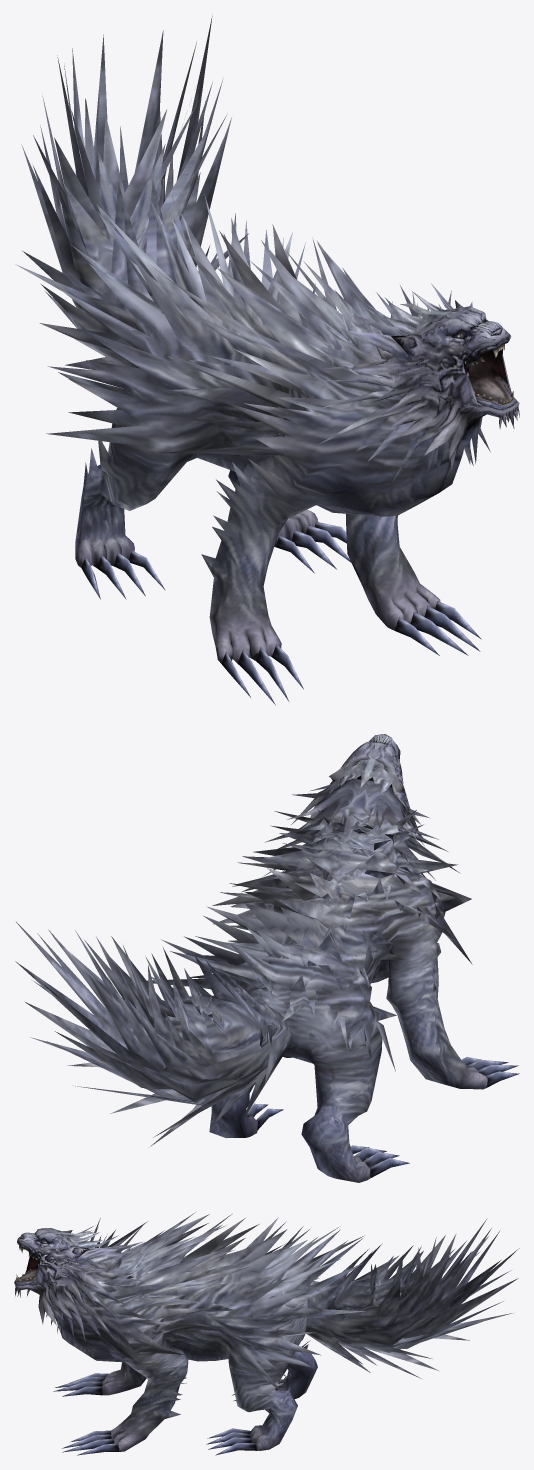
Rendered from Frost Beast.fbx.
The picture shows the model from 3 angles, top to bottom: view 1: azimuth 30°, elevation 25°; view 2: azimuth 150°, elevation 25°; view 3: azimuth 270°, elevation 25°; orthographic projection. The views are drawn at different scales.
Parts seen in each view (by area): view 1: Body; view 2: Body; view 3: Body.
Part boxes in pixels (x1,y1,x2,y2): Body: [15, 16, 519, 705]; Body: [15, 734, 519, 1182]; Body: [14, 1212, 519, 1455].
Size of the model in its own units: 940 by 1020 by 2091.
1 material, 1 textured.
